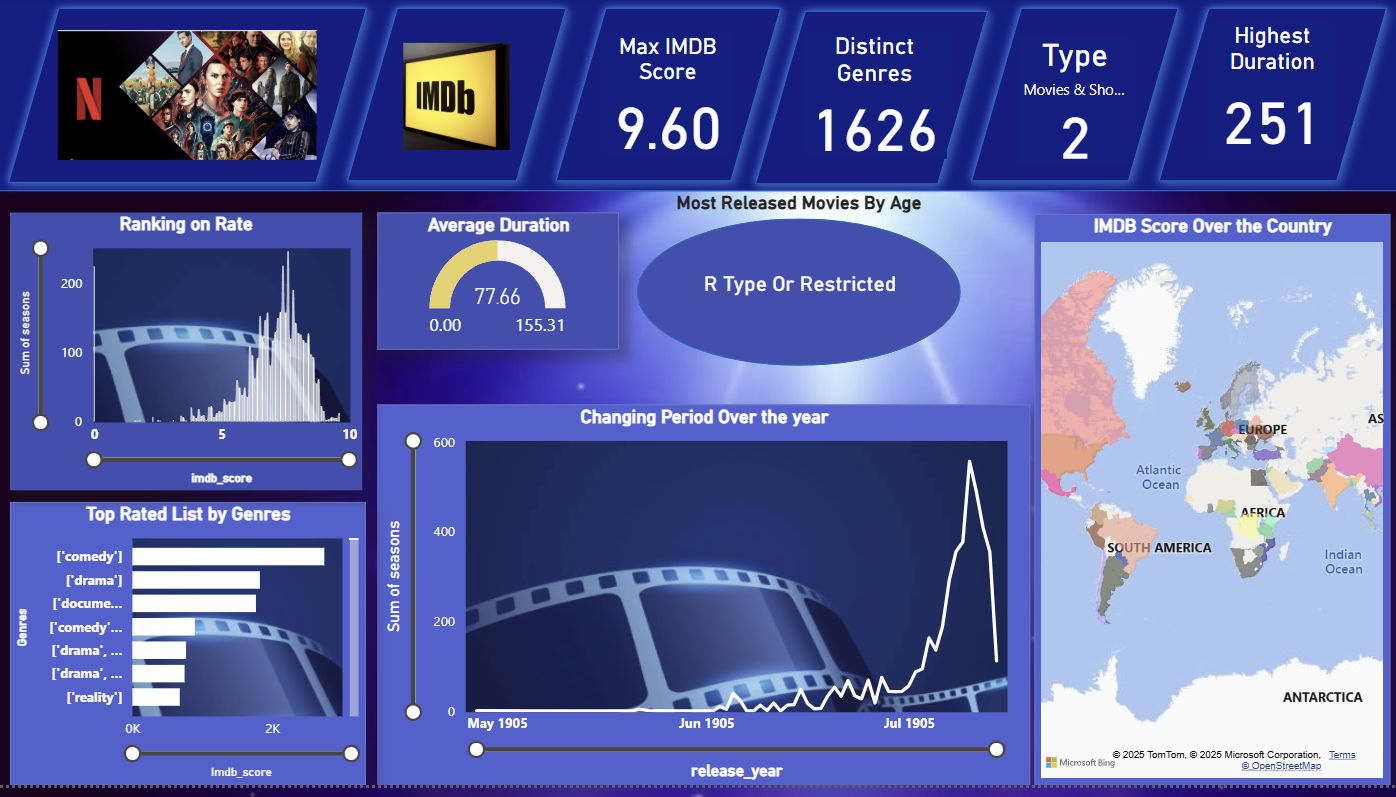

This screenshot's page, from the dashboard's own definition file:
{"tool":"powerbi","page":{"name":"Netflix Movies & Shows","canvas":[1280,720],"ordinal":0},"visuals":[{"type":"shape","box":[0,0,1279.5,176.9],"z":0},{"type":"shape","box":[1051.9,0,227.7,176.9],"z":1000},{"type":"card","title":"Highest Duration","fields":{"Values":["Max(IMDB Movies_Shows.runtime)"]},"box":[1110.9,21.9,108.3,124.8],"z":2000},{"type":"shape","box":[880.5,0,208.5,176.9],"z":3000},{"type":"shape","box":[683,2.7,231.8,176.9],"z":4000},{"type":"card","title":"Distinct Genres ","fields":{"Values":["Count(IMDB Movies_Shows.genres)"]},"box":[735.1,32.9,131.7,113.8],"z":5000},{"type":"card","title":"Type","fields":{"Values":["Count(IMDB Movies_Shows.type)"]},"box":[932.6,35.7,104.2,116.6],"z":6000},{"type":"shape","box":[500.6,0,224.9,176.9],"z":7000},{"type":"card","title":"Max IMDB Score","fields":{"Values":["IMDB Movies_Shows.Measure"]},"box":[551.3,31.5,122.1,115.2],"z":8000},{"type":"lineChart","title":"Changing Period Over the year","fields":{"Category":["IMDB Movies_Shows.release_year"],"Y":["Sum(IMDB Movies_Shows.seasons)"]},"box":[347,371.7,596.6,348.3],"z":9000},{"type":"shape","box":[0,0,347,178.3],"z":10000},{"type":"image","box":[49.4,0,246.9,176.9],"z":11000},{"type":"shape","box":[309.9,0,219.4,176.9],"z":12000},{"type":"image","box":[353.8,35.7,130.3,108.3],"z":13000},{"type":"clusteredBarChart","title":"Top Rated List by Genres","fields":{"Category":["IMDB Movies_Shows.genres"],"Y":["Sum(IMDB Movies_Shows.imdb_score)"]},"box":[11,460.8,325,259.2],"z":14000},{"type":"stackedAreaChart","title":"Ranking on Rating ","fields":{"Category":["IMDB Movies_Shows.imdb_score"],"Y":["IMDB Movies_Shows.Age_Rating_per_catagory"]},"box":[11,196.1,322.3,253.7],"z":15000},{"type":"gauge","title":"Average Duration","fields":{"Y":["Avg(IMDB Movies_Shows.runtime)"]},"box":[346.9,196,220.6,125.2],"z":16000},{"type":"shape","title":"Most Released Movies By Age","box":[584.2,176.9,296.2,159.1],"z":17000},{"type":"textbox","box":[640.5,234.5,207.1,75.4],"z":18000},{"type":"filledMap","title":"IMDB Score Over the Country ","fields":{"Category":["IMDB Movies_Shows.production_countries"],"Series":["IMDB Movies_Shows.imdb_score"]},"box":[947.7,197.5,325,522.5],"z":19000}]}

Visuals, with their boxes in screenshot pixels (x1, y1, x2, y2), scaled from the page's 1280x720 canvas onto the 1396x797 screenshot:
shape: region(0, 0, 1395, 196)
shape: region(1147, 0, 1395, 196)
"Highest Duration" card: region(1212, 24, 1330, 162)
shape: region(960, 0, 1188, 196)
shape: region(745, 3, 998, 199)
"Distinct Genres " card: region(802, 36, 945, 162)
"Type" card: region(1017, 40, 1131, 169)
shape: region(546, 0, 791, 196)
"Max IMDB Score" card: region(601, 35, 734, 162)
"Changing Period Over the year" lineChart: region(378, 411, 1029, 796)
shape: region(0, 0, 378, 197)
image: region(54, 0, 323, 196)
shape: region(338, 0, 577, 196)
image: region(386, 40, 528, 159)
"Top Rated List by Genres" clusteredBarChart: region(12, 510, 366, 796)
"Ranking on Rating " stackedAreaChart: region(12, 217, 364, 498)
"Average Duration" gauge: region(378, 217, 619, 356)
"Most Released Movies By Age" shape: region(637, 196, 960, 372)
textbox: region(699, 260, 924, 343)
"IMDB Score Over the Country " filledMap: region(1034, 219, 1388, 796)
